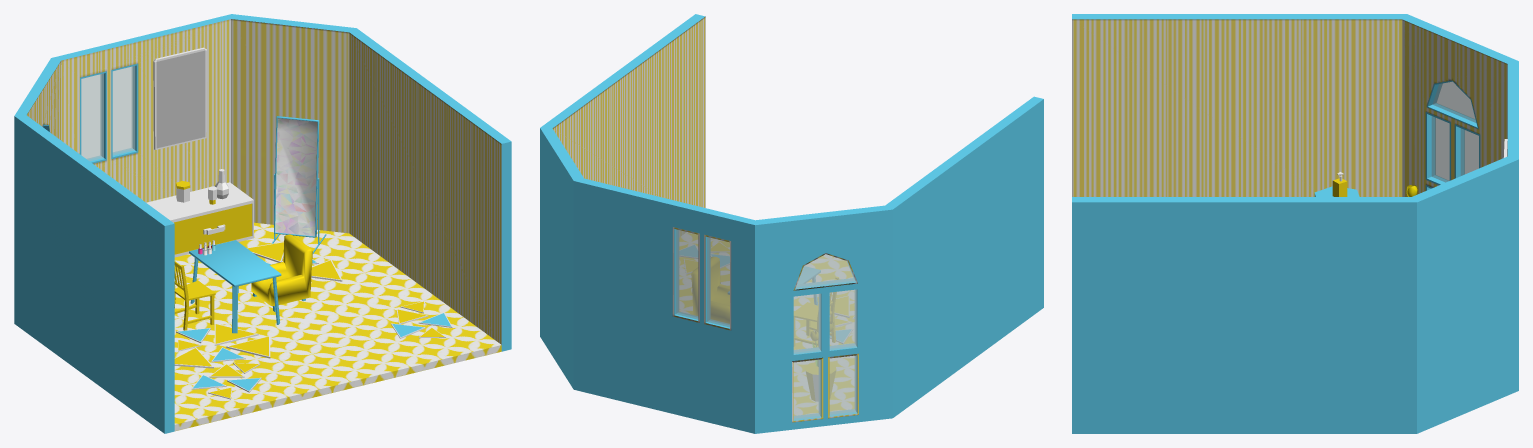
The model's file is SARI-ODA.obj.
3 renders of one model, left to right at view 1: azimuth 30°, elevation 25°; view 2: azimuth 150°, elevation 25°; view 3: azimuth 270°, elevation 25°, orthographic. The views are drawn at different scales.
Visible parts, largest first — view 1: Cube.137_wall_yellow, Cube.137_m_babyblue, Cube.144_zemin_sarı, Box009.014_wall_pembe, Plane.016_tablo_sarı, Cube.136_m_cam, Cylinder.024_m_yellow, Leg_3.005_m_babyblue, cabinet.014_m_white, cabinet.014_m_yellow, Cube.135_m_yellow, Cylinder.024_m_white (+4 smaller); view 2: Cube.137_m_babyblue, Cube.137_wall_yellow, Cube.136_m_cam, Cube.144_zemin_sarı, Cube.135_m_yellow, Cube.134_m_yellow, Cylinder.024_m_yellow; view 3: Cube.137_m_babyblue, Cube.137_wall_yellow, Cube.136_m_cam.
Boxes of the visible parts, x1,y1,x2,y2 form: Cube.137_wall_yellow: (27,19,501,344); Cube.137_m_babyblue: (14,14,511,433); Cube.144_zemin_sarı: (174,222,501,431); Box009.014_wall_pembe: (275,118,317,236); Plane.016_tablo_sarı: (156,50,205,148); Cube.136_m_cam: (43,66,135,161); Cylinder.024_m_yellow: (174,242,444,397); Leg_3.005_m_babyblue: (189,240,281,333); cabinet.014_m_white: (146,169,253,257); cabinet.014_m_yellow: (174,181,252,254); Cube.135_m_yellow: (251,234,312,306); Cylinder.024_m_white: (174,241,452,399); Cube.137_m_babyblue: (540,14,1043,433); Cube.137_wall_yellow: (552,16,858,422); Cube.136_m_cam: (675,229,857,420); Cube.144_zemin_sarı: (679,232,854,415); Cube.135_m_yellow: (691,257,729,323); Cube.134_m_yellow: (794,277,838,346); Cylinder.024_m_yellow: (685,243,848,330); Cube.137_m_babyblue: (1072,14,1518,433); Cube.137_wall_yellow: (1072,19,1507,196); Cube.136_m_cam: (1431,81,1478,182).
Size of the model in its own units: 68.08 by 38.99 by 68.21.
